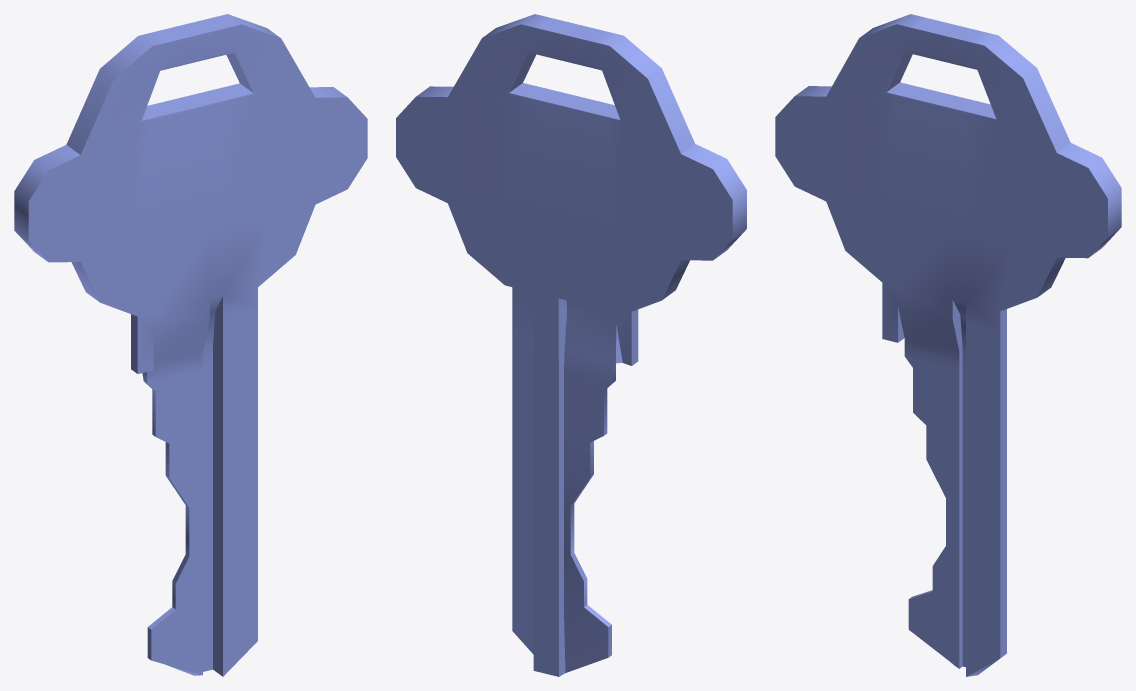
The model's file is Keys_45.FBX.
The picture shows the model from 3 angles, left to right: view 1: azimuth 30°, elevation 25°; view 2: azimuth 150°, elevation 25°; view 3: azimuth 330°, elevation 25°; orthographic projection.
Parts seen in each view (by area): view 1: Keys_45; view 2: Keys_45; view 3: Keys_45.
Part boxes in pixels (left/top/right/bottom): Keys_45: left=14, top=14, right=367, bottom=676; Keys_45: left=396, top=14, right=746, bottom=676; Keys_45: left=775, top=14, right=1121, bottom=676.
Size of the model in its own units: 0.9174 by 1.68 by 0.0666.
